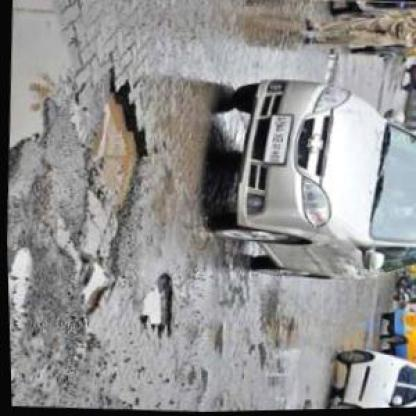pothole: (60, 66, 158, 319), (1, 0, 79, 197), (132, 272, 178, 341), (6, 245, 33, 322)
